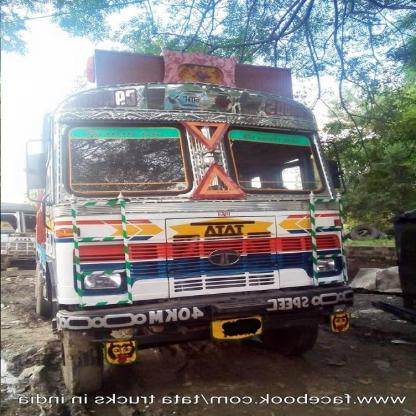truck: (24, 91, 348, 388)
